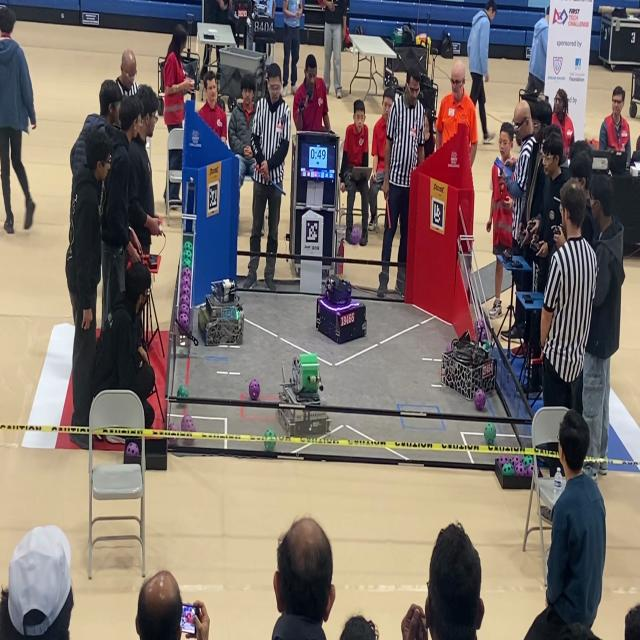artifact_green: (264, 429, 276, 452), (484, 423, 496, 445), (125, 442, 139, 457), (181, 419, 196, 433), (497, 454, 510, 469), (181, 414, 193, 430), (515, 462, 526, 477), (502, 463, 514, 476), (177, 384, 188, 398), (511, 456, 522, 468), (182, 255, 192, 268), (523, 456, 533, 468), (483, 340, 491, 353), (183, 258, 192, 269), (167, 423, 179, 431), (183, 240, 193, 248), (182, 251, 193, 258), (183, 246, 193, 253), (184, 240, 192, 248), (183, 245, 192, 252), (183, 251, 192, 258), (183, 246, 192, 253), (184, 237, 192, 244), (183, 262, 192, 268), (183, 242, 189, 249)
artifact_purple: (474, 389, 486, 411), (476, 319, 487, 341), (350, 225, 362, 245), (249, 379, 260, 400), (181, 414, 194, 430), (180, 284, 190, 303), (182, 419, 196, 432), (125, 443, 139, 456), (514, 462, 526, 477), (179, 313, 189, 330), (498, 454, 510, 468), (502, 463, 514, 476), (511, 456, 523, 468), (181, 267, 191, 281), (181, 277, 191, 290), (181, 284, 190, 298), (180, 294, 190, 306), (183, 267, 192, 279), (179, 304, 189, 314), (526, 465, 534, 477), (168, 423, 180, 431), (181, 276, 190, 286), (181, 268, 190, 278), (446, 342, 452, 352)
